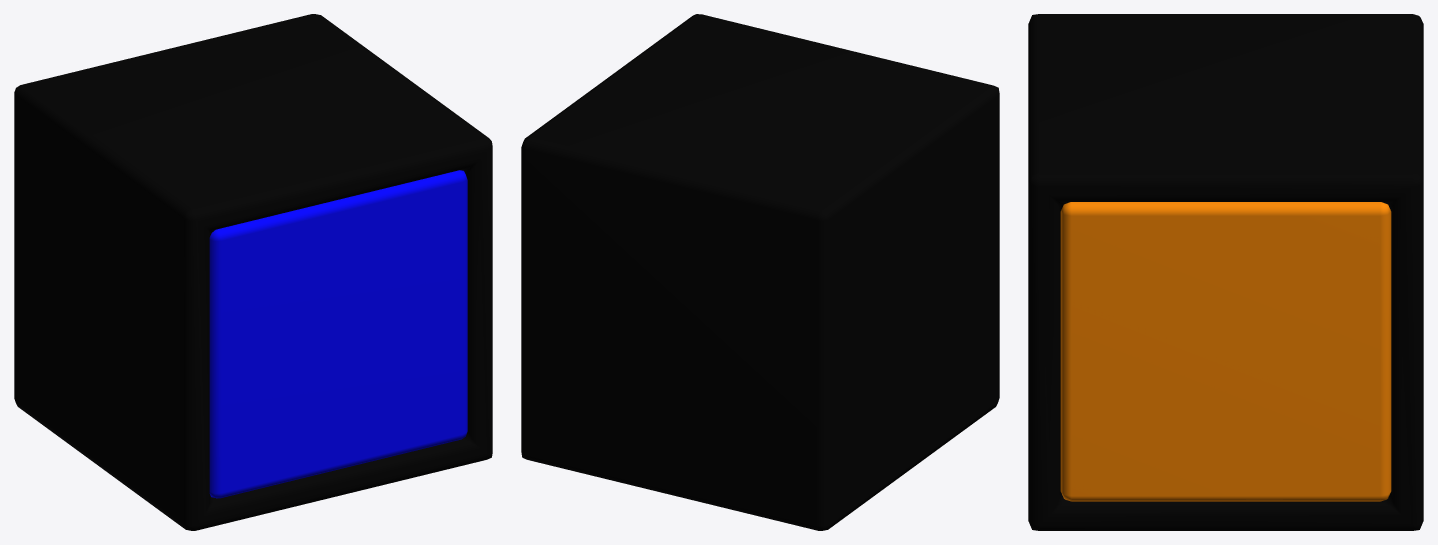
3 views of the same model, side by side, from view 1: azimuth 30°, elevation 25°; view 2: azimuth 150°, elevation 25°; view 3: azimuth 270°, elevation 25° (orthographic). The views are drawn at different scales.
Parts seen in each view (by area): view 1: Cube.013; view 2: Cube.013; view 3: Cube.013.
Boxes of the visible parts, x1=… form: Cube.013: x1=14, y1=14, x2=492, y2=530; Cube.013: x1=521, y1=14, x2=999, y2=530; Cube.013: x1=1028, y1=14, x2=1423, y2=530.
Size of the model in its own units: 2 by 2 by 2.
